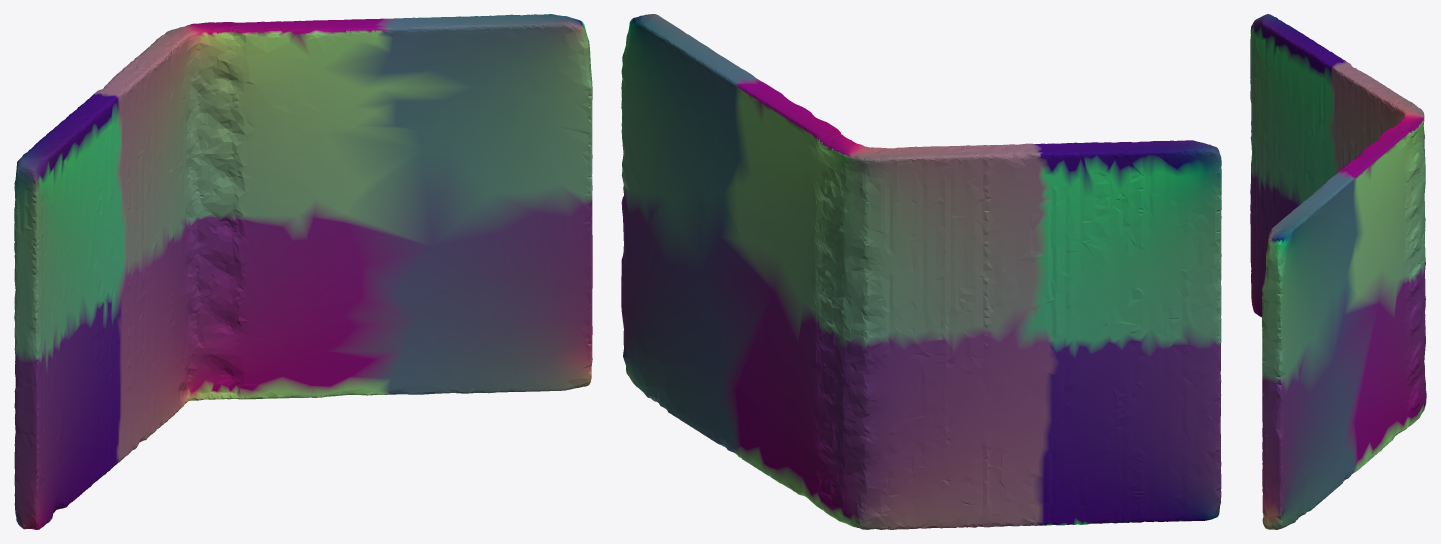
The model's file is paper-6.off.obj.
The picture shows the model from 3 angles, left to right: view 1: azimuth 30°, elevation 25°; view 2: azimuth 150°, elevation 25°; view 3: azimuth 270°, elevation 25°; orthographic projection. The views are drawn at different scales.
Size of the model in its own units: 1.52 by 0.9188 by 0.4923.
